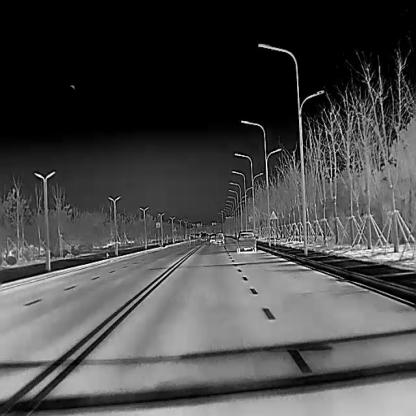car: (235, 230, 257, 253), (215, 232, 224, 244), (209, 233, 215, 244), (200, 232, 207, 240)
